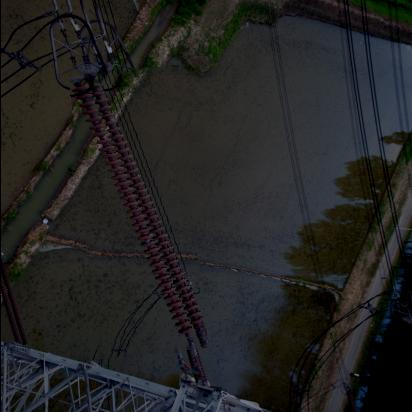insulator: (76, 68, 202, 358)
